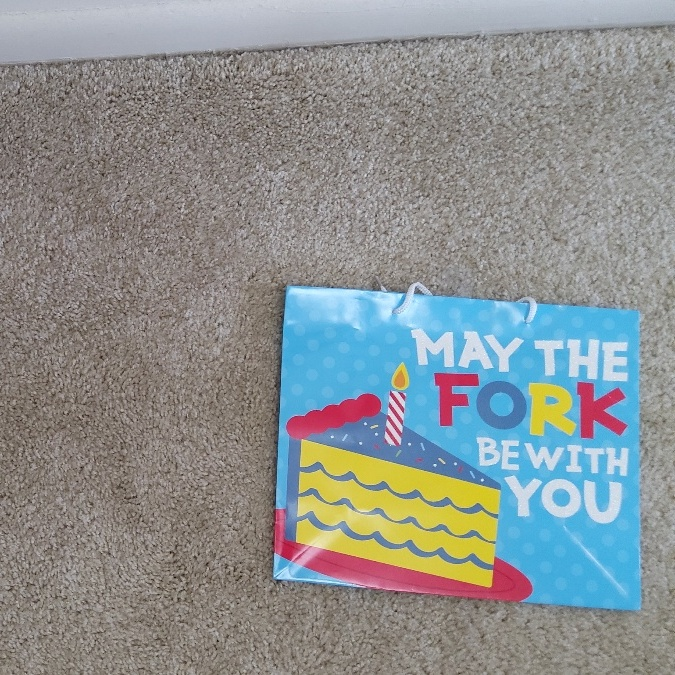paper_bag: (289, 295, 641, 594)
